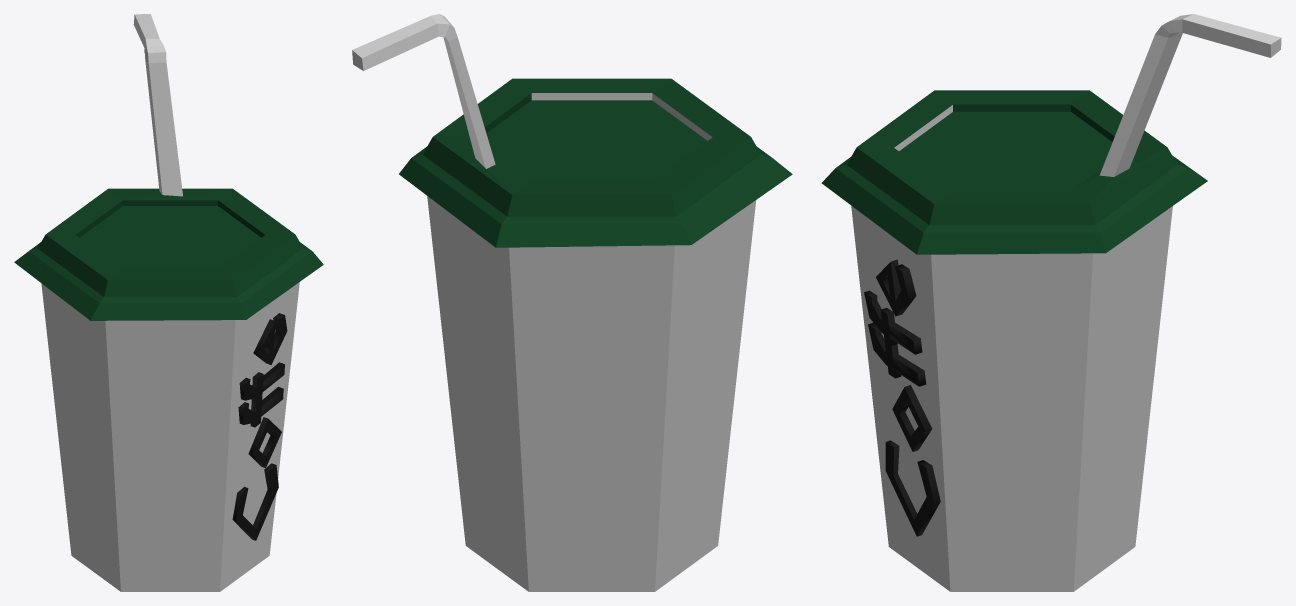
File: кофе.fbx
3 views of the same model, side by side, from view 1: azimuth 30°, elevation 25°; view 2: azimuth 150°, elevation 25°; view 3: azimuth 270°, elevation 25° (orthographic). The views are drawn at different scales.
Parts seen in each view (by area): view 1: чашка; view 2: чашка; view 3: чашка.
Part boxes in pixels (left/top/right/bottom): чашка: left=14, top=14, right=323, bottom=591; чашка: left=352, top=14, right=792, bottom=591; чашка: left=821, top=14, right=1281, bottom=591.
Size of the model in its own units: 126 by 233 by 172.
